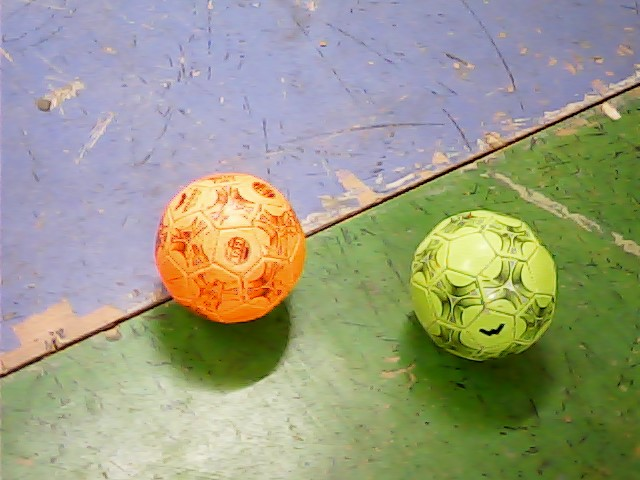Green_ball: (409, 212, 548, 360)
Orange_ball: (155, 167, 312, 328)
